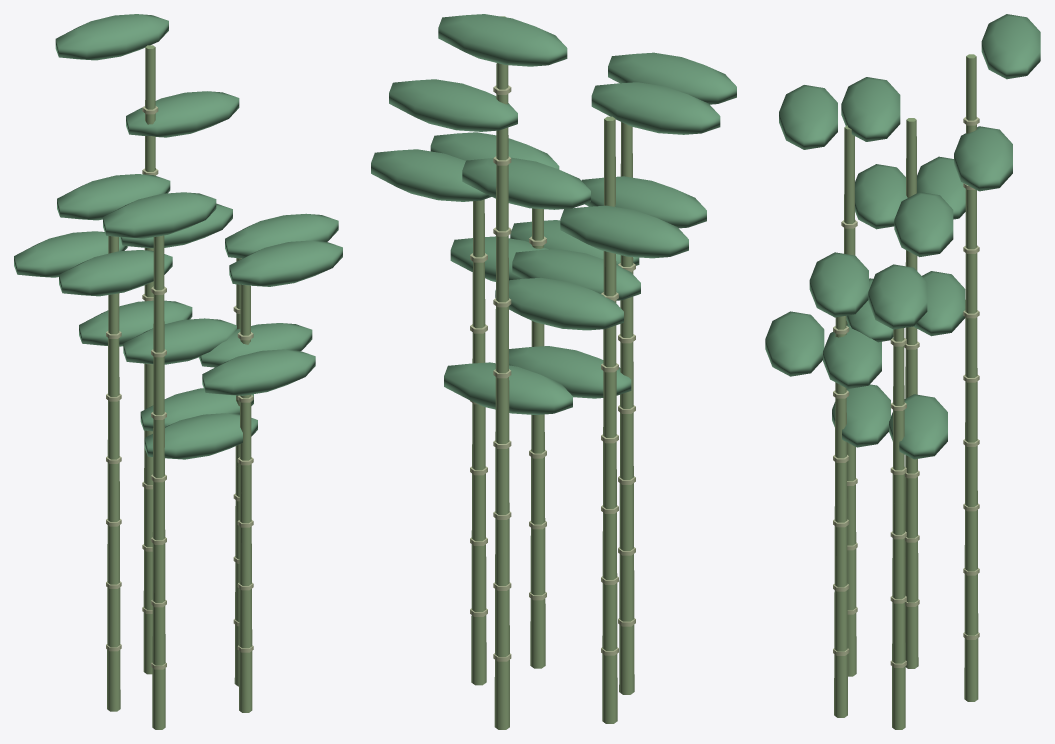
The picture shows the model from 3 angles, left to right: view 1: azimuth 30°, elevation 25°; view 2: azimuth 150°, elevation 25°; view 3: azimuth 270°, elevation 25°; orthographic projection. The views are drawn at different scales.
Visible parts, largest first — view 1: Visual; view 2: Visual; view 3: Visual.
Boxes of the visible parts, x1=… form: Visual: x1=14, y1=14, x2=342, y2=729; Visual: x1=371, y1=14, x2=736, y2=729; Visual: x1=765, y1=14, x2=1040, y2=729.
Bounding box in the file's own units: 7.02 × 14.35 × 5.43.
